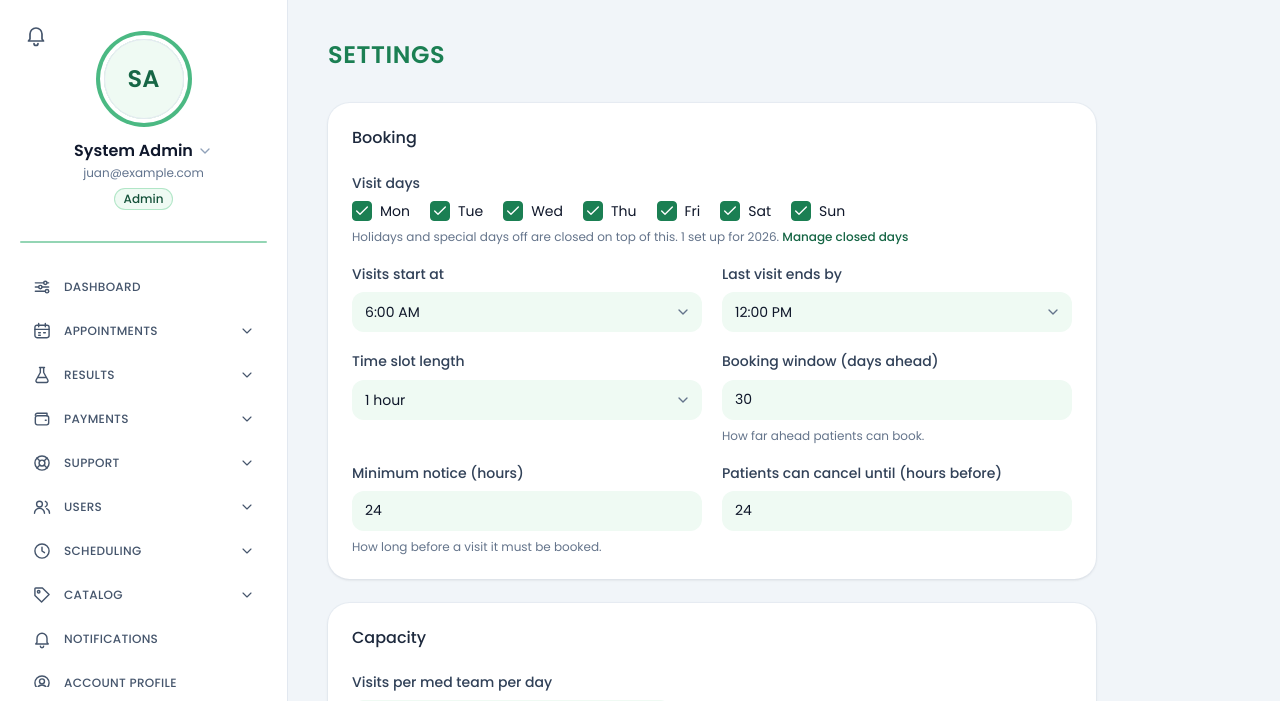
Scenario: SettingsPage › saves changes and says who changed them
Step 1. Click the checkbox named "Sunday" → (801, 211), box [791, 201, 811, 221]
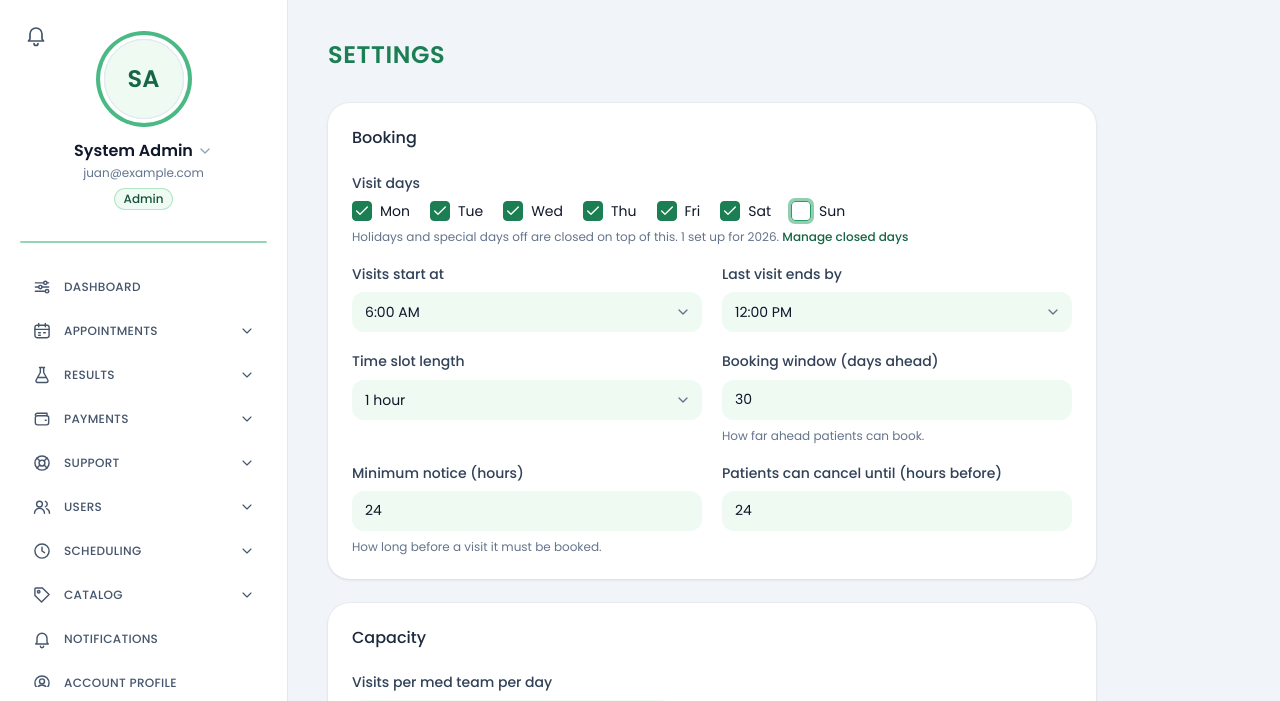
Step 2. Replace the text in the number field labelled "Minimum notice (hours)" with "12" → (527, 511), box [352, 491, 702, 531]
(page scrolled)
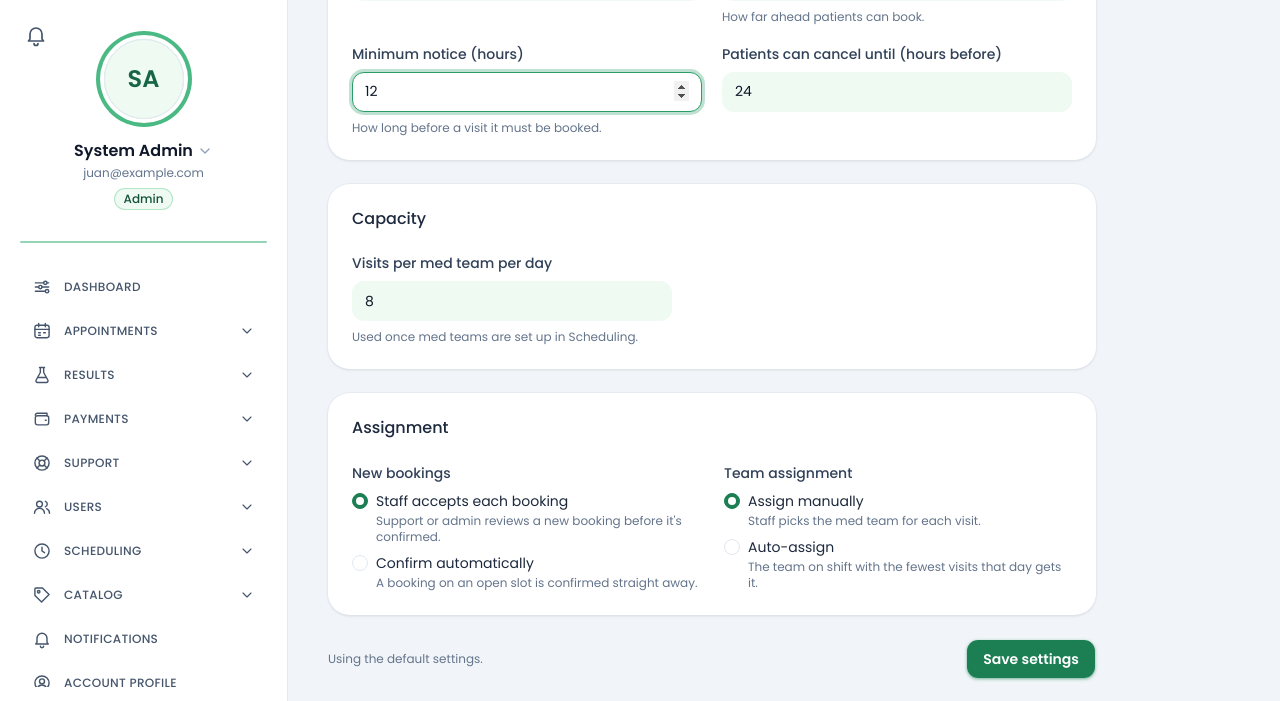
Step 3. Click the button "Save settings" → (1031, 659), box [966, 639, 1096, 679]
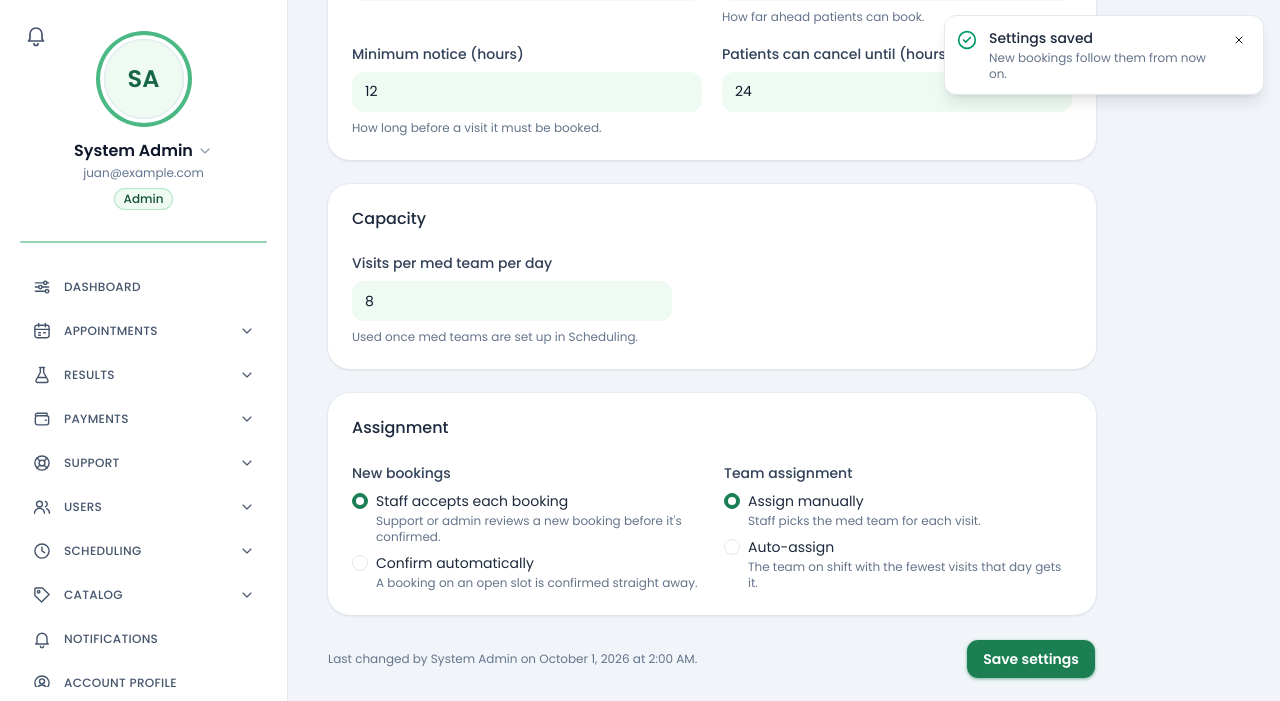
Now the text "Settings saved" is shown, box [989, 28, 1093, 48]
Now the text "Last changed by System Admin on October 1, 2026 at 2:00 AM." is shown, box [328, 651, 697, 667]
